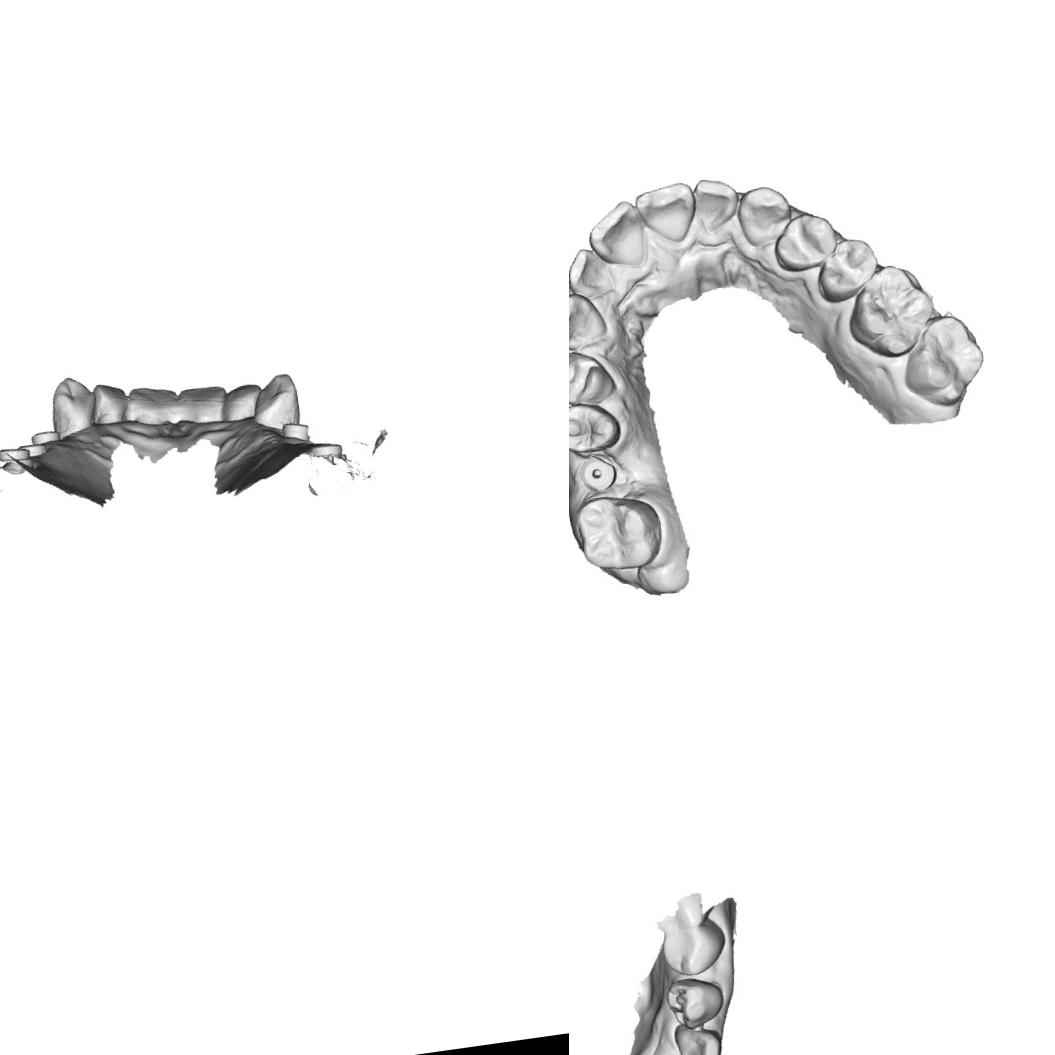canine: (731, 180, 796, 252), (248, 369, 303, 432), (46, 371, 101, 432), (569, 288, 610, 354), (672, 1018, 726, 1055)
implant: (572, 452, 619, 494), (278, 418, 314, 443), (306, 437, 345, 460), (0, 442, 31, 464), (30, 428, 62, 448), (18, 440, 50, 460)
incisor: (580, 196, 652, 271), (630, 176, 700, 250), (686, 174, 742, 234), (123, 380, 184, 432), (569, 243, 617, 298), (175, 381, 232, 427), (218, 380, 266, 425), (90, 379, 132, 427)
molar: (894, 308, 990, 416), (842, 260, 938, 364), (569, 489, 666, 577)
premolar: (809, 231, 886, 303), (768, 209, 842, 274), (659, 918, 730, 980), (663, 973, 728, 1032), (569, 346, 619, 413), (569, 399, 624, 457)
